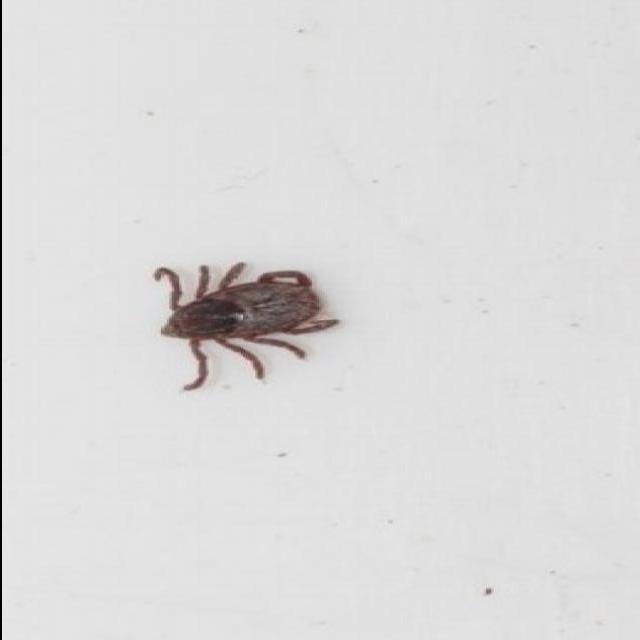Rhipicephalus Sanguineus-F: (153, 259, 337, 386)
